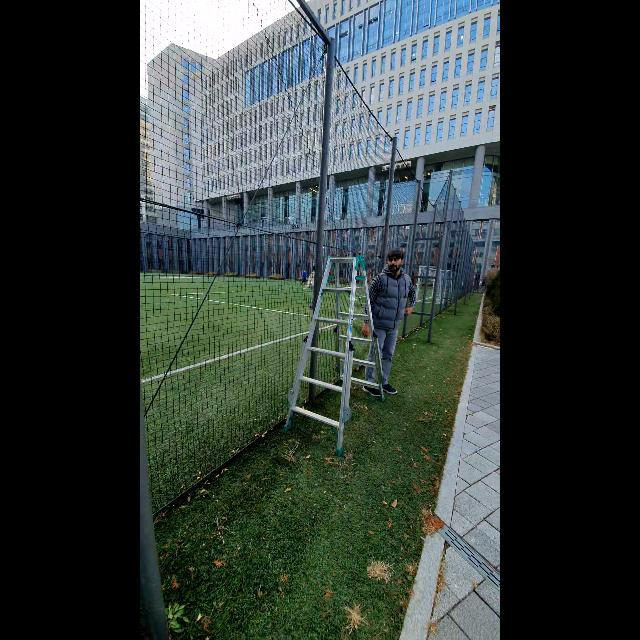hard hat: (280, 250, 390, 466)
vest: (370, 247, 414, 397)
